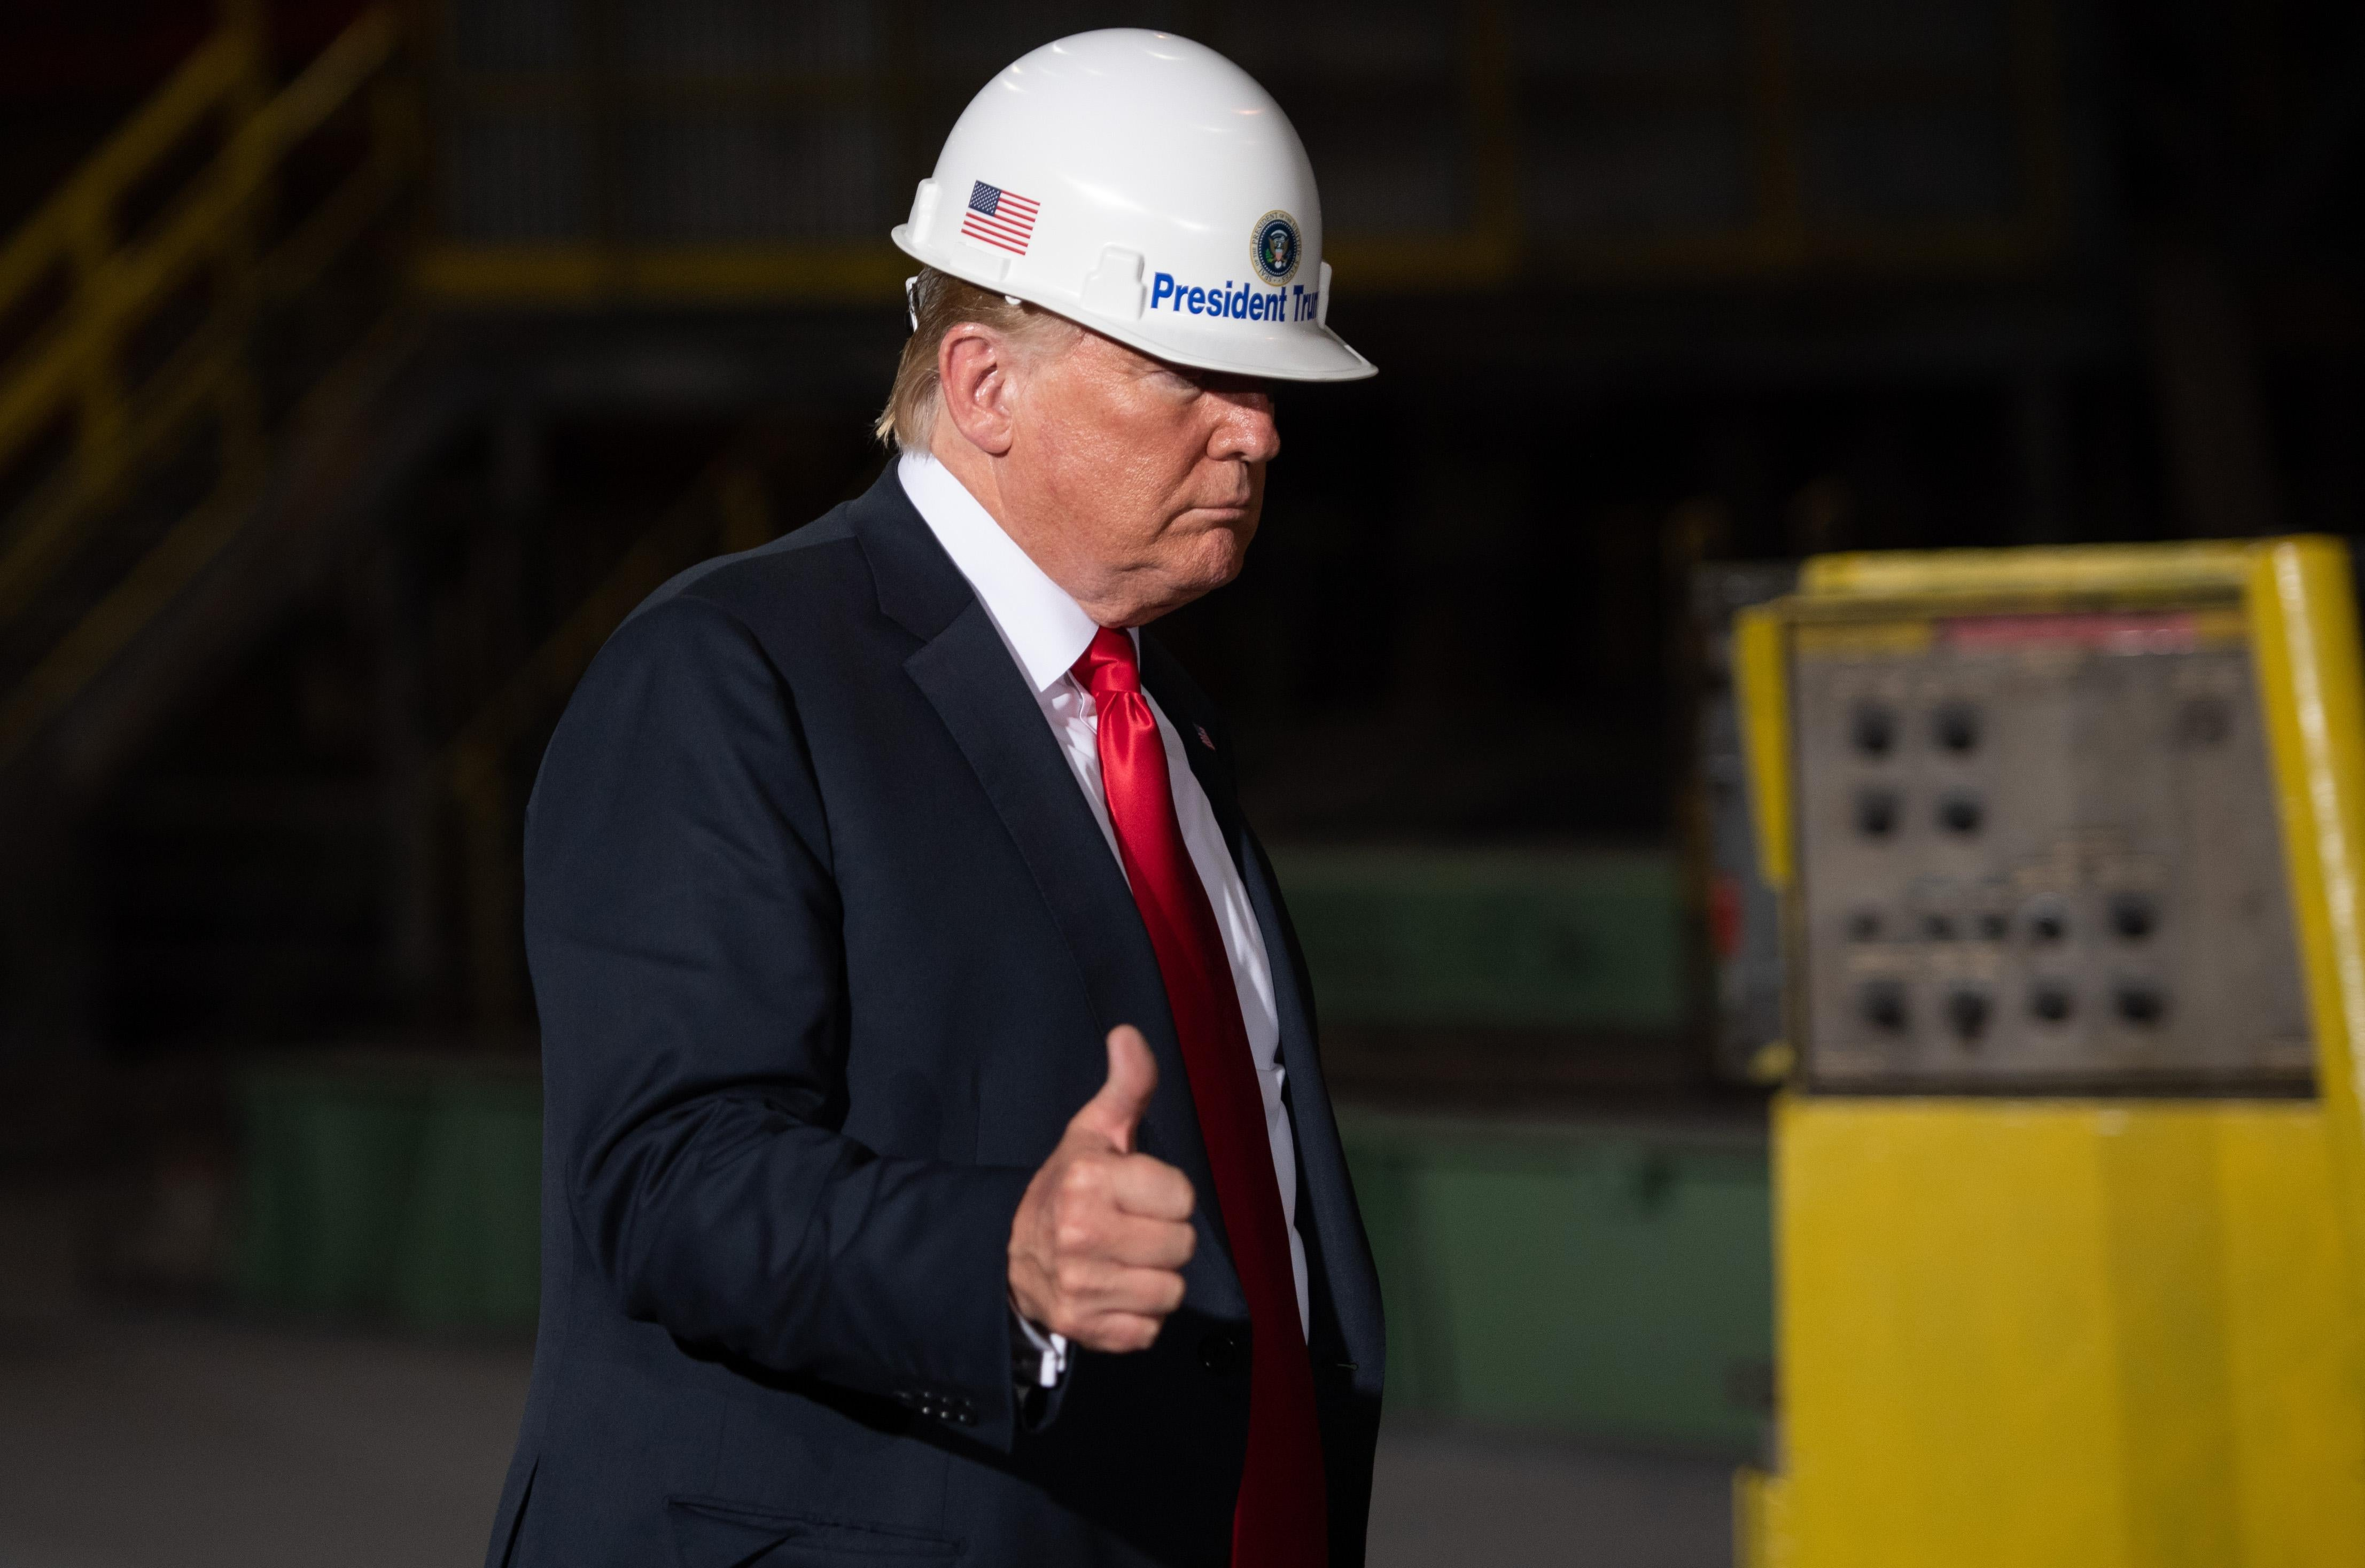thumbsUp: (986, 1013, 1210, 1419)
